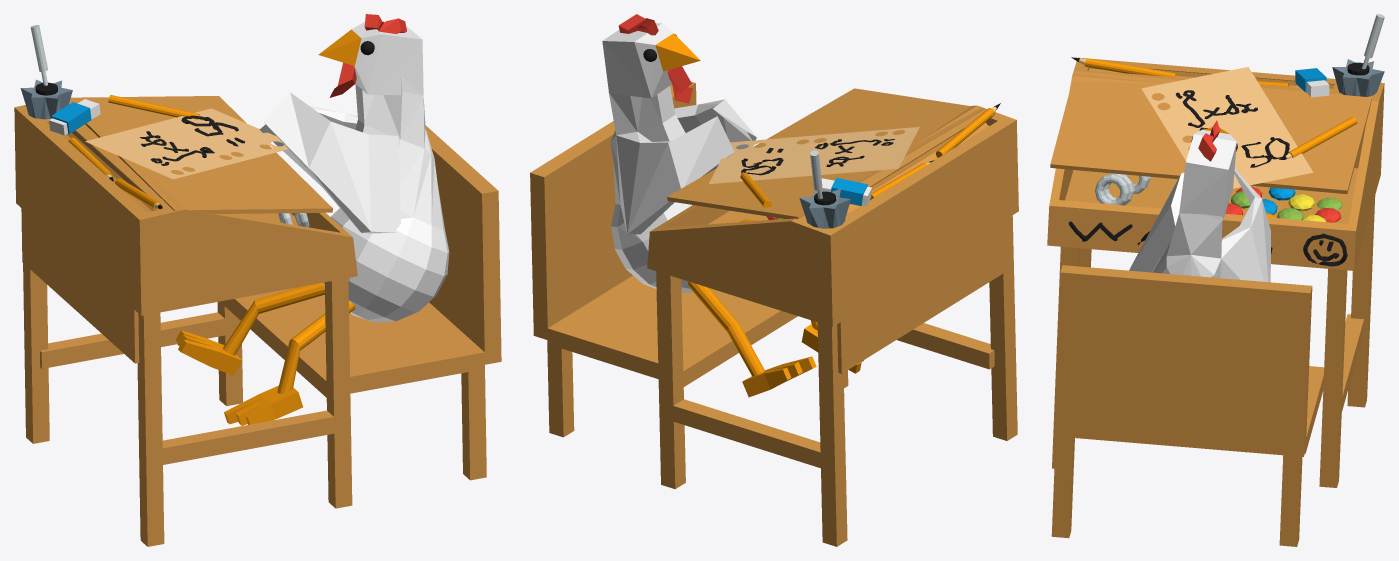
The picture shows the model from 3 angles, left to right: view 1: azimuth 30°, elevation 25°; view 2: azimuth 150°, elevation 25°; view 3: azimuth 270°, elevation 25°; orthographic projection. The views are drawn at different scales.
Visible parts, largest first — view 1: Node; view 2: Node; view 3: Node.
Boxes of the visible parts, left/top/right/bottom form: Node: left=14, top=14, right=501, bottom=546; Node: left=530, top=14, right=1018, bottom=546; Node: left=1047, top=14, right=1384, bottom=546.
Bounding box in the file's own units: 0.5802 × 0.6122 × 0.4624.
